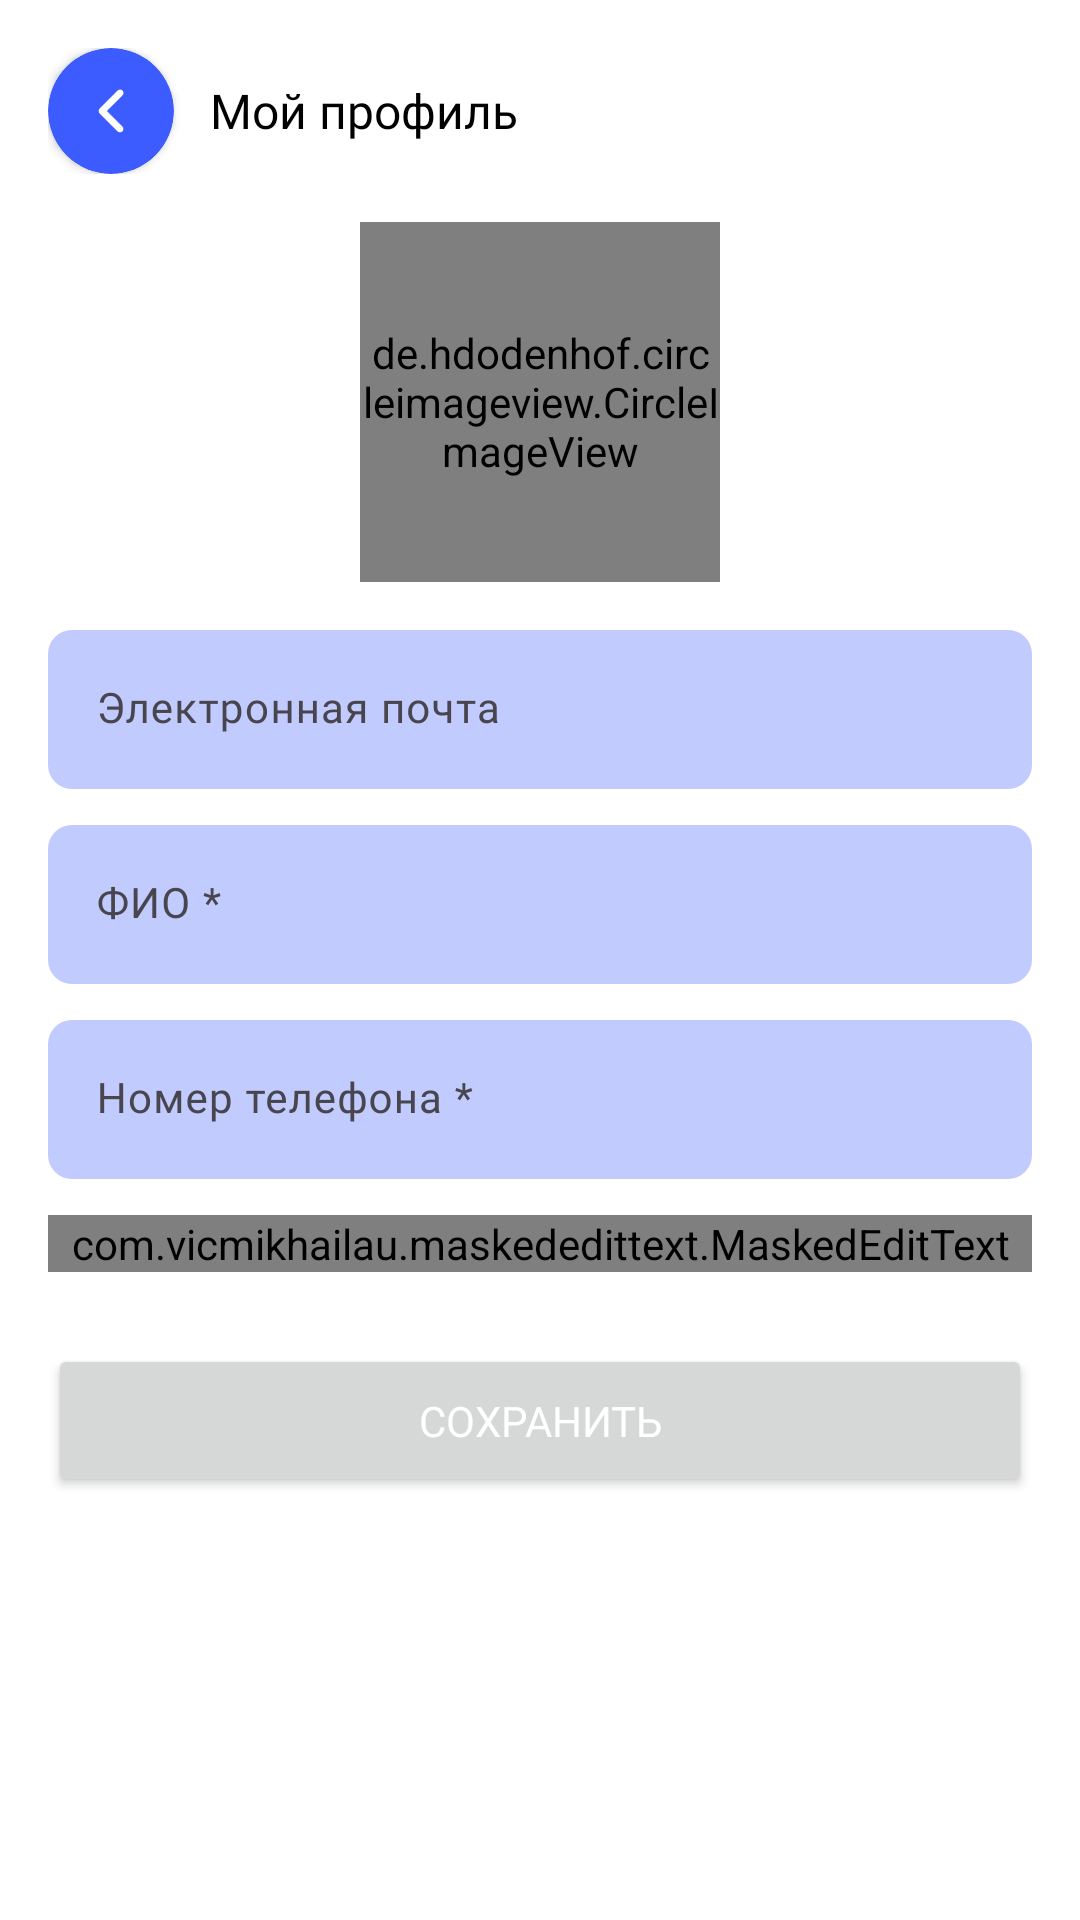

Icons on this 1080x1920 Android screen, each with the point to tap as (x,y):
back: (111,111)
